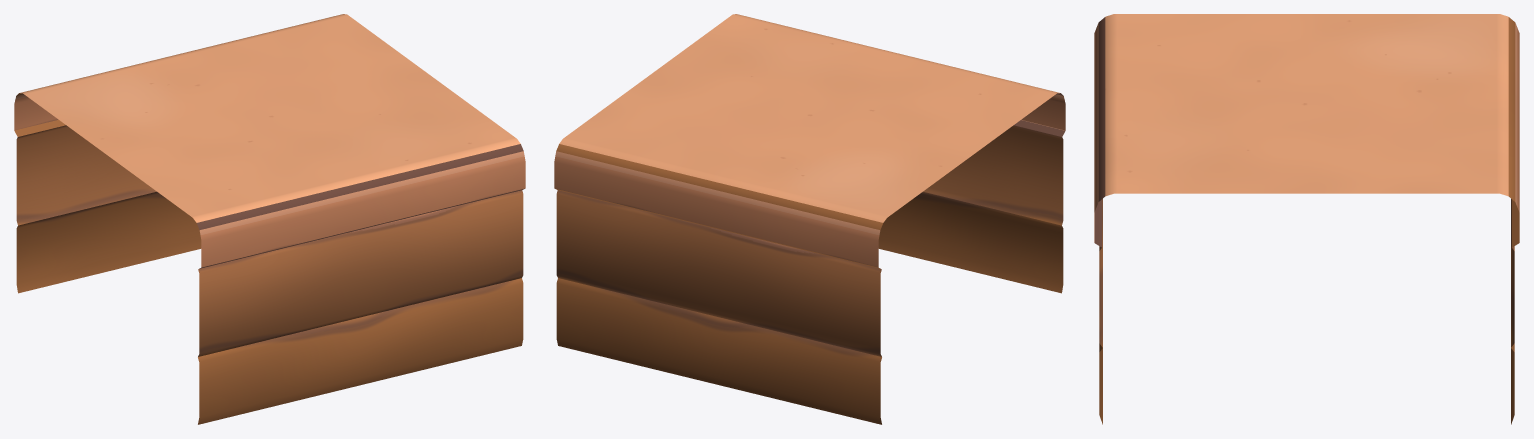
File: ground_straight.glb
3 views of the same model, side by side, from view 1: azimuth 30°, elevation 25°; view 2: azimuth 150°, elevation 25°; view 3: azimuth 270°, elevation 25° (orthographic). The views are drawn at different scales.
Visible parts, largest first — view 1: ground_straight; view 2: ground_straight; view 3: ground_straight.
Boxes of the visible parts, box(x1,y1,x2,y2) form: ground_straight: box(14, 14, 525, 424); ground_straight: box(554, 14, 1065, 424); ground_straight: box(1094, 14, 1519, 424).
Bounding box in the file's own units: 1 × 0.6 × 1.
2 materials, 2 textured.
